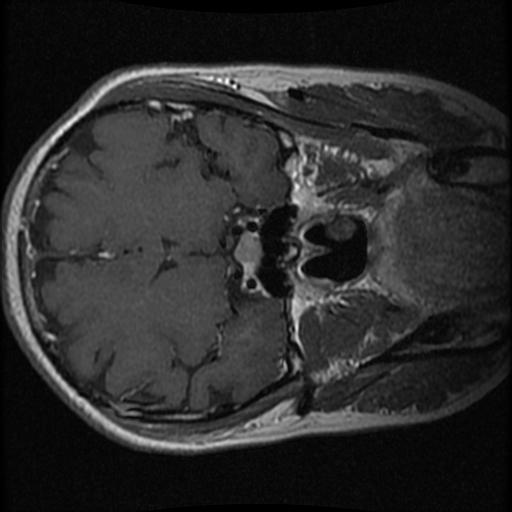pituitary tumour: (234, 229, 261, 268)
